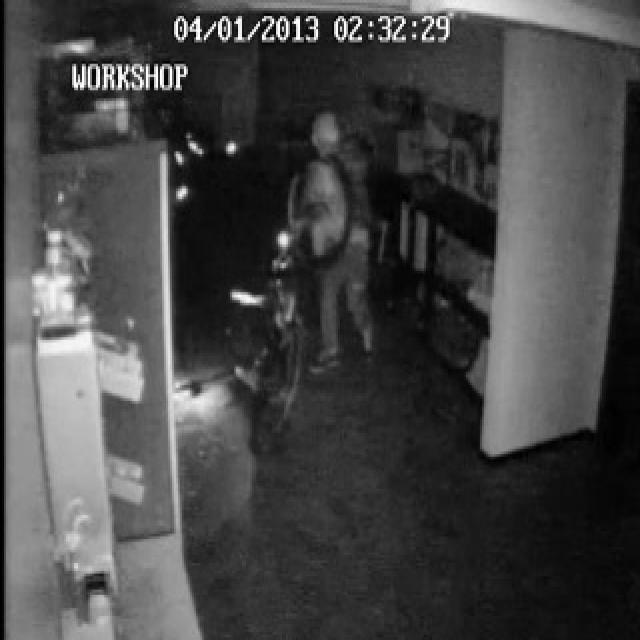thief: (303, 95, 373, 378)
